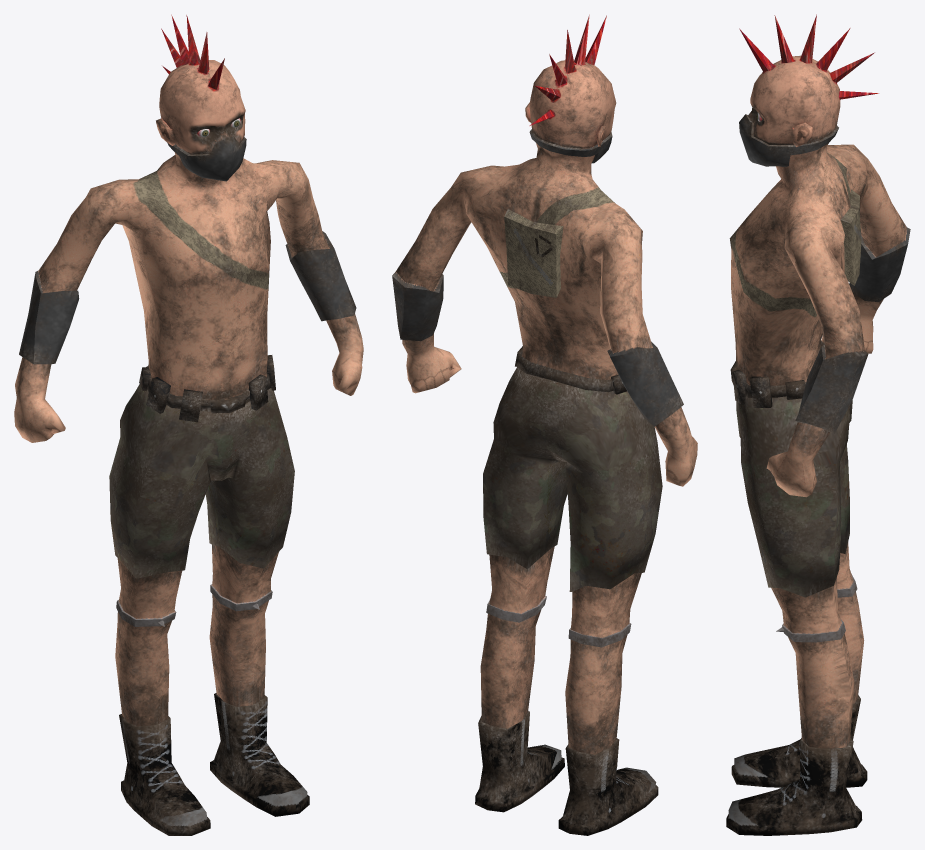
Rendered from Anim_ataque_f2_npc2.0008.obj.
3 views of the same model, side by side, from view 1: azimuth 30°, elevation 25°; view 2: azimuth 150°, elevation 25°; view 3: azimuth 270°, elevation 25° (orthographic).
Parts seen in each view (by area): view 1: polySurface1; view 2: polySurface1; view 3: polySurface1.
Part boxes in pixels (x1,y1,x2,y2): polySurface1: (14, 14, 363, 835); polySurface1: (392, 14, 697, 835); polySurface1: (726, 14, 910, 835).
Bounding box in the file's own units: 4.29 × 10.16 × 2.18.
2 materials, 2 textured.
